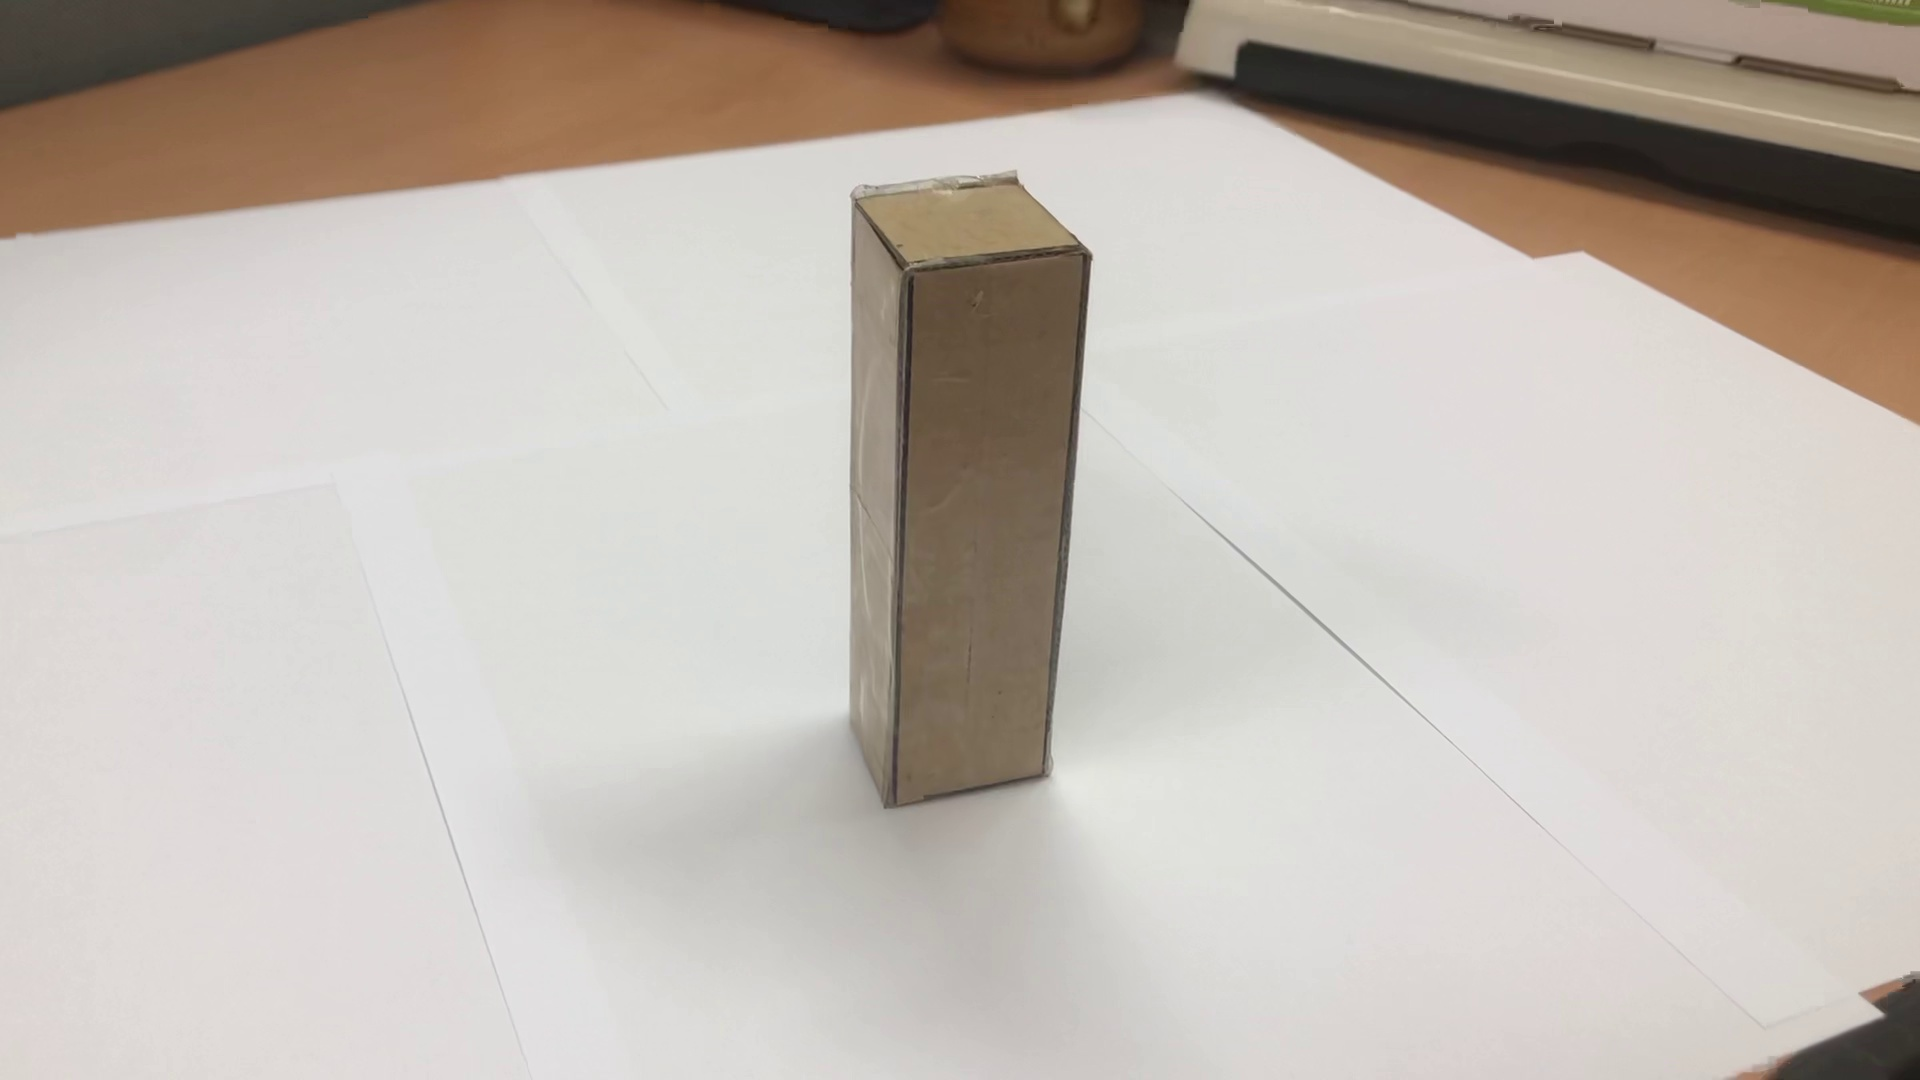box: (847, 135, 1084, 835)
